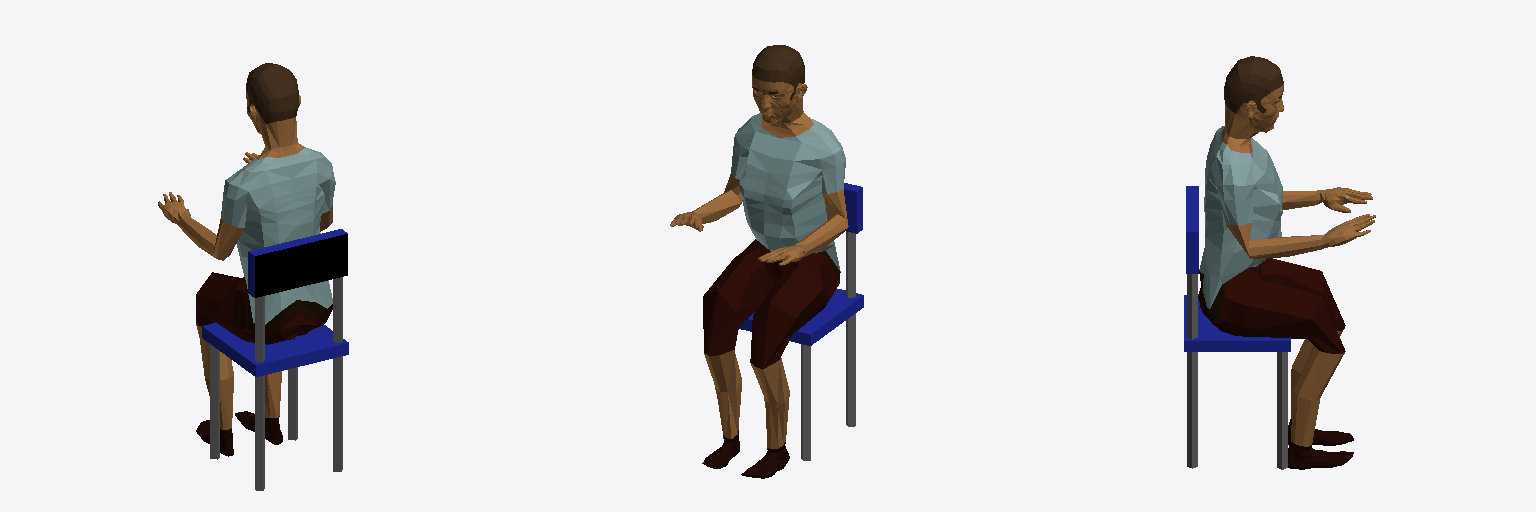
Rendered from personsit2_000001.obj.
3 renders of one model, left to right at view 1: azimuth 30°, elevation 25°; view 2: azimuth 150°, elevation 25°; view 3: azimuth 270°, elevation 25°, orthographic.
Visible parts, largest first — view 1: Cube, Cube.001_Cube.002; view 2: Cube, Cube.001_Cube.002; view 3: Cube, Cube.001_Cube.002.
Boxes of the visible parts, x1,y1,x2,y2 form: Cube: [158, 63, 335, 456]; Cube.001_Cube.002: [202, 229, 348, 490]; Cube: [670, 45, 848, 478]; Cube.001_Cube.002: [723, 183, 863, 460]; Cube: [1198, 56, 1375, 469]; Cube.001_Cube.002: [1184, 186, 1290, 469].
Bounding box in the file's own units: 24.88 × 76.26 × 33.48.